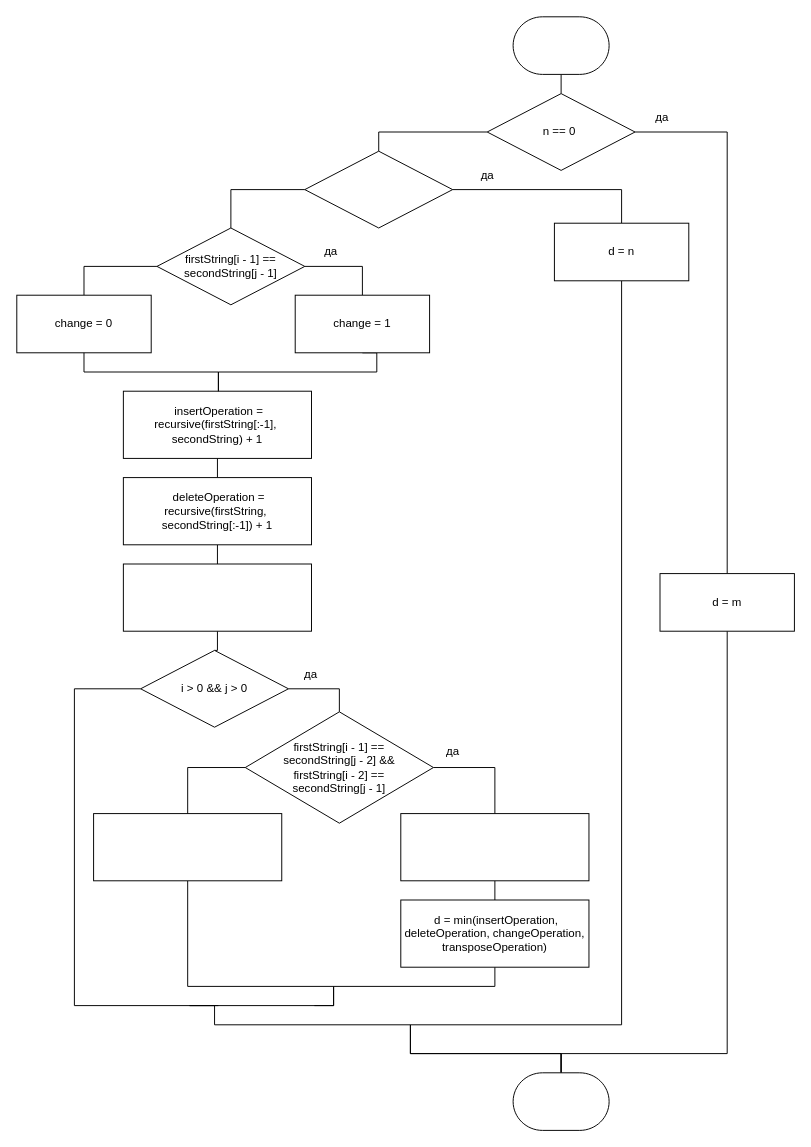
Image size: 811x1147. Some labels were removed from this diagram. The shapes that lost their labels are listed below. From the top down, each one's centre as x and y in pixels, then its label:
At [560,45]: "Начало".
At [378,189]: "m == 0".
At [217,597]: "change Operation = recursive ( firstString[:-1], secondString[:-1]) + change".
At [187,847]: "d = min(insertOperation, deleteOperation, changeOperation)".
At [494,847]: "transposeOperation = recursive ( firstString[:-2], secondString[:-2] ) + 1".
At [560,1101]: "Конец".
